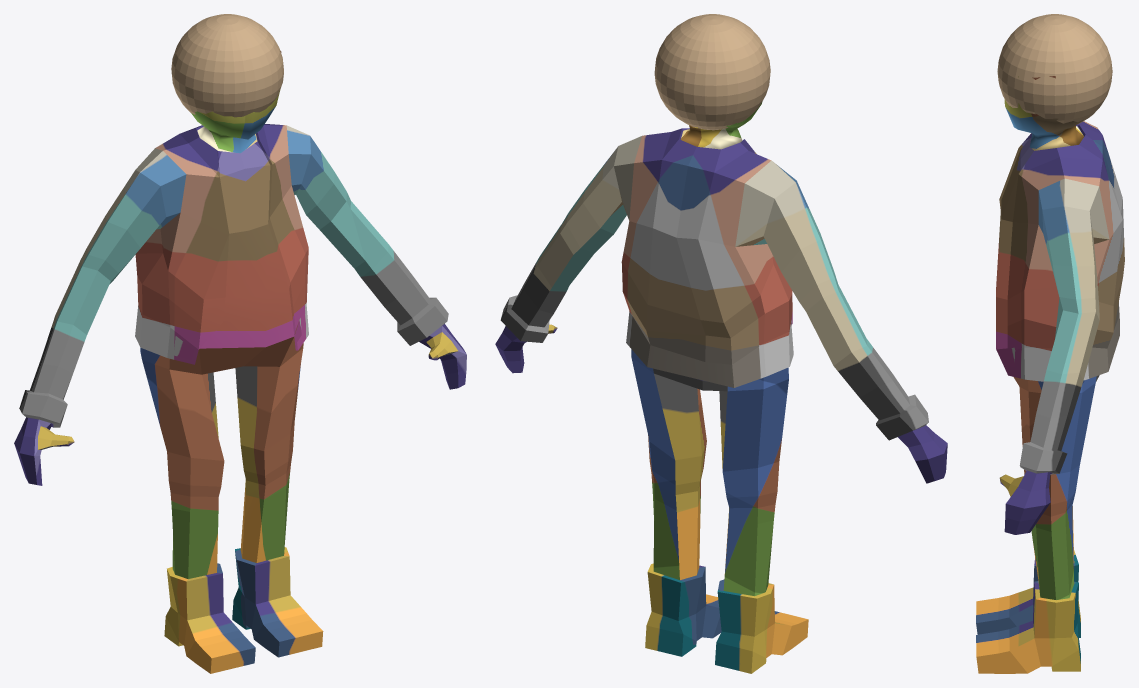
File: Teacher (2).fbx
3 renders of one model, left to right at view 1: azimuth 30°, elevation 25°; view 2: azimuth 150°, elevation 25°; view 3: azimuth 270°, elevation 25°, orthographic. The views are drawn at different scales.
Visible parts, largest first — view 1: Character.001; view 2: Character.001; view 3: Character.001.
Part boxes in pixels (left/top/right/bottom): Character.001: left=14, top=14, right=466, bottom=673; Character.001: left=495, top=14, right=947, bottom=673; Character.001: left=976, top=14, right=1124, bottom=673.
Size of the model in its own units: 1266 by 1699 by 366.
